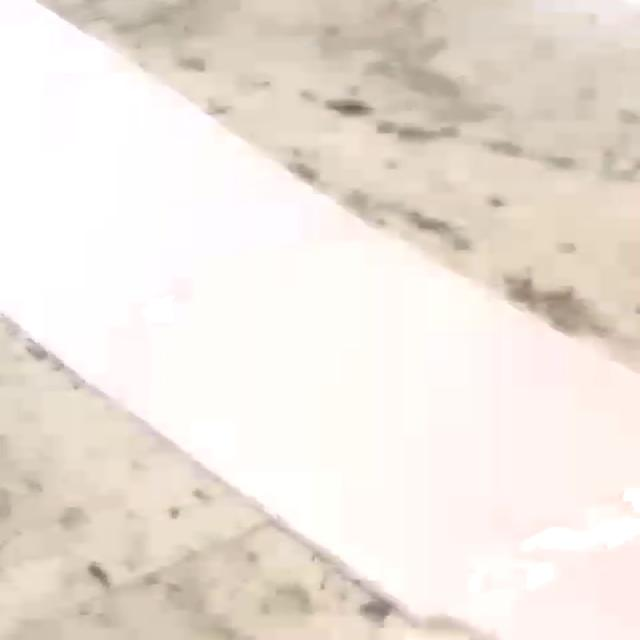road: (0, 0, 640, 640)
